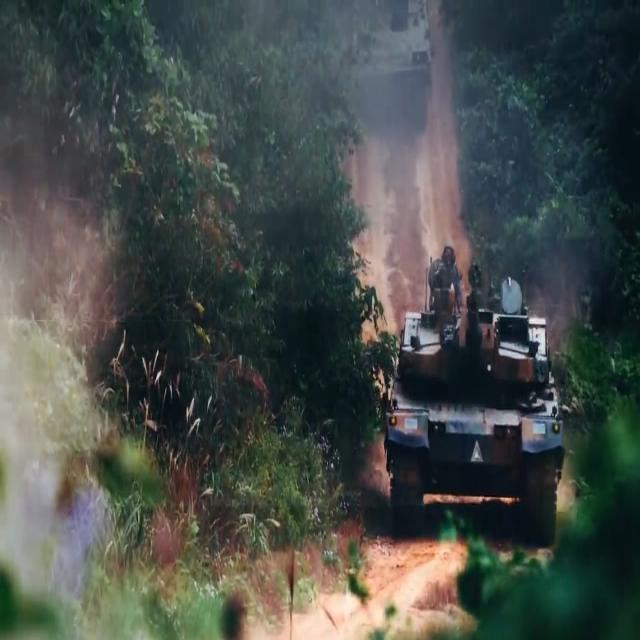korea tank: (380, 239, 566, 548)
